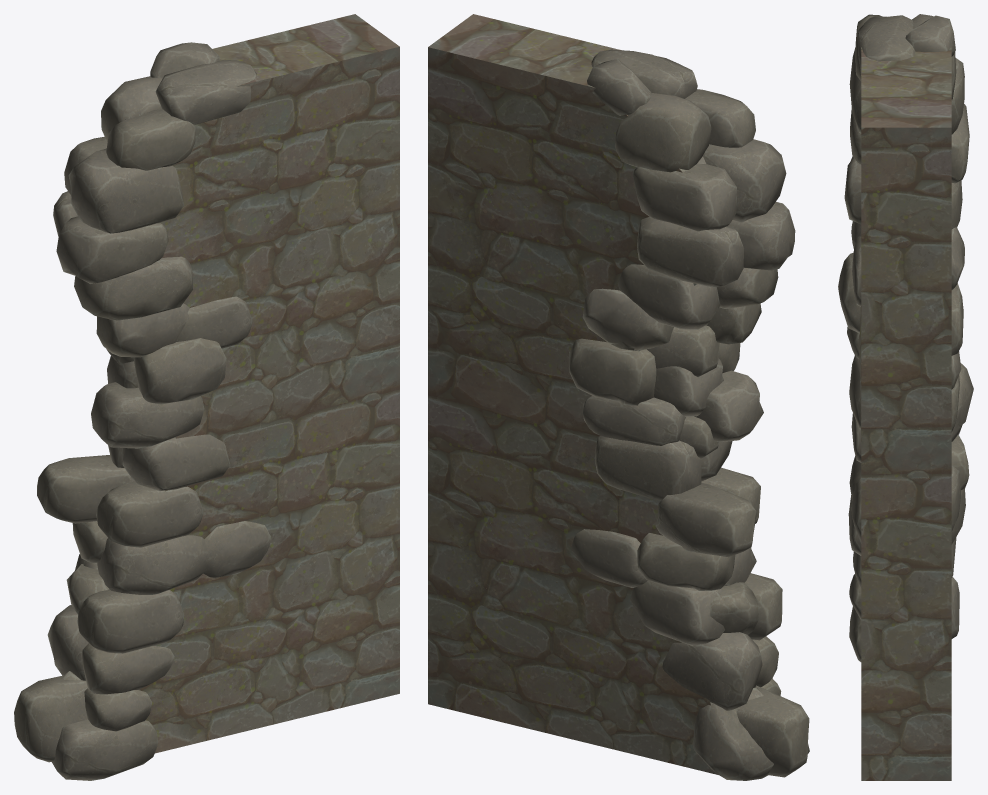
File: SM_FW01_Ruins_Int_Wall_A_2x4_Brkn_L_02.fbx
3 renders of one model, left to right at view 1: azimuth 30°, elevation 25°; view 2: azimuth 150°, elevation 25°; view 3: azimuth 270°, elevation 25°, orthographic.
Parts seen in each view (by area): view 1: SM_FW01_Ruins_Int_Wall_A_2x4_Brkn_L_02, SM_FW01_Ruins_Int_Wall_A_2x4_Brkn_L_02_LOD0; view 2: SM_FW01_Ruins_Int_Wall_A_2x4_Brkn_L_02, SM_FW01_Ruins_Int_Wall_A_2x4_Brkn_L_02_LOD0; view 3: SM_FW01_Ruins_Int_Wall_A_2x4_Brkn_L_02, SM_FW01_Ruins_Int_Wall_A_2x4_Brkn_L_02_LOD0.
Part boxes in pixels (<box>): SM_FW01_Ruins_Int_Wall_A_2x4_Brkn_L_02: <box>104,14,399,753</box>; SM_FW01_Ruins_Int_Wall_A_2x4_Brkn_L_02_LOD0: <box>14,42,270,780</box>; SM_FW01_Ruins_Int_Wall_A_2x4_Brkn_L_02: <box>428,14,717,774</box>; SM_FW01_Ruins_Int_Wall_A_2x4_Brkn_L_02_LOD0: <box>569,49,809,780</box>; SM_FW01_Ruins_Int_Wall_A_2x4_Brkn_L_02: <box>859,46,951,780</box>; SM_FW01_Ruins_Int_Wall_A_2x4_Brkn_L_02_LOD0: <box>838,14,973,661</box>.
Size of what is drawn, in the model's own units: 2.28 by 4.19 by 0.7537.
